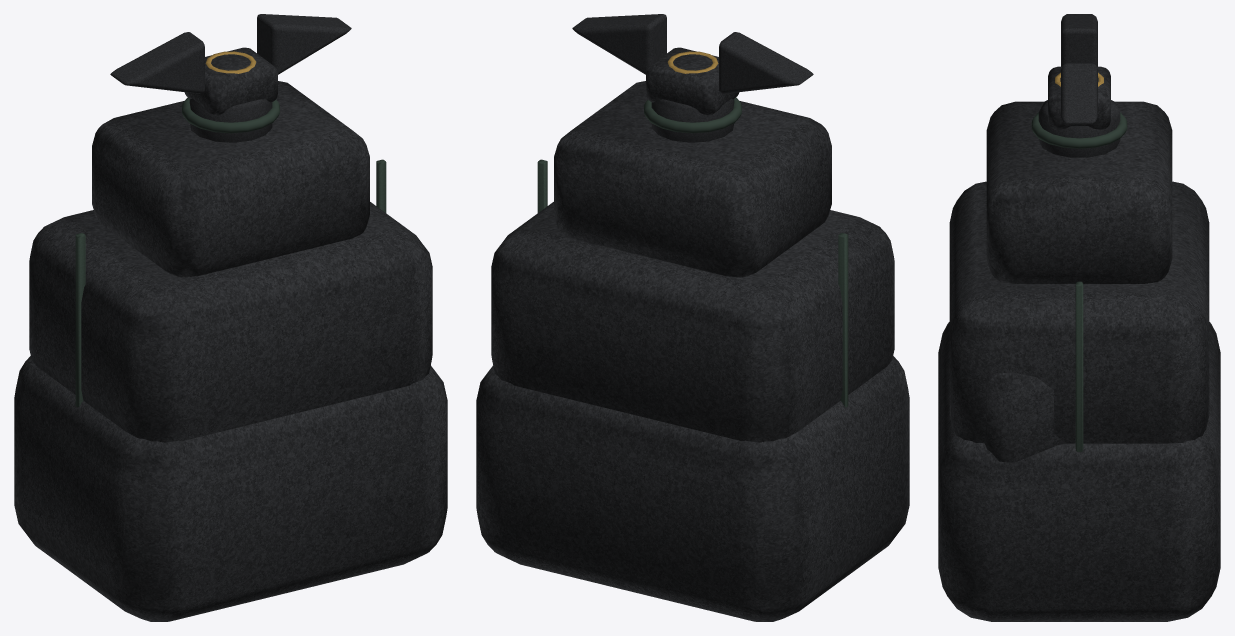
Rendered from asset_080_trash_bag_fp.glb.
3 renders of one model, left to right at view 1: azimuth 30°, elevation 25°; view 2: azimuth 150°, elevation 25°; view 3: azimuth 270°, elevation 25°, orthographic. The views are drawn at different scales.
Visible parts, largest first — view 1: MESH_BagBase, MESH_BagBelly, MESH_BagShoulder, MESH_BagEarL, MESH_BagKnot, MESH_BagEarR, MESH_BagNeck, MESH_BagSeamL, MESH_BagDrawstring; view 2: MESH_BagBase, MESH_BagBelly, MESH_BagShoulder, MESH_BagEarL, MESH_BagKnot, MESH_BagEarR, MESH_BagNeck, MESH_BagSeamL, MESH_BagDrawstring; view 3: MESH_BagBase, MESH_BagBelly, MESH_BagShoulder, MESH_BagCrinkle, MESH_BagEarR, MESH_BagEarL, MESH_BagNeck, MESH_BagKnot, MESH_BagSeamR, MESH_BagDrawstring.
Boxes of the visible parts, x1,y1,x2,y2 form: MESH_BagBase: (14,356,447,621); MESH_BagBelly: (29,202,432,442); MESH_BagShoulder: (92,81,369,277); MESH_BagEarL: (110,32,204,93); MESH_BagKnot: (184,47,277,115); MESH_BagEarR: (257,14,351,74); MESH_BagNeck: (189,98,272,142); MESH_BagSeamL: (75,233,85,407); MESH_BagDrawstring: (182,97,279,133); MESH_BagBase: (476,356,909,621); MESH_BagBelly: (491,202,894,442); MESH_BagShoulder: (554,81,831,277); MESH_BagEarL: (719,32,813,93); MESH_BagKnot: (646,47,739,115); MESH_BagEarR: (572,14,666,74); MESH_BagNeck: (651,98,734,142); MESH_BagSeamL: (838,233,848,407); MESH_BagDrawstring: (644,97,741,133); MESH_BagBase: (938,322,1220,621); MESH_BagBelly: (949,181,1209,443); MESH_BagShoulder: (986,101,1172,283); MESH_BagCrinkle: (984,372,1064,462); MESH_BagEarR: (1061,63,1097,123); MESH_BagEarL: (1061,14,1097,66); MESH_BagNeck: (1038,100,1120,157); MESH_BagKnot: (1048,66,1110,130); MESH_BagSeamR: (1075,281,1083,451); MESH_BagDrawstring: (1031,112,1127,148).
Size of the model in its own units: 0.5 by 0.7658 by 0.38.
Materials: 3 (3 with a texture image).
